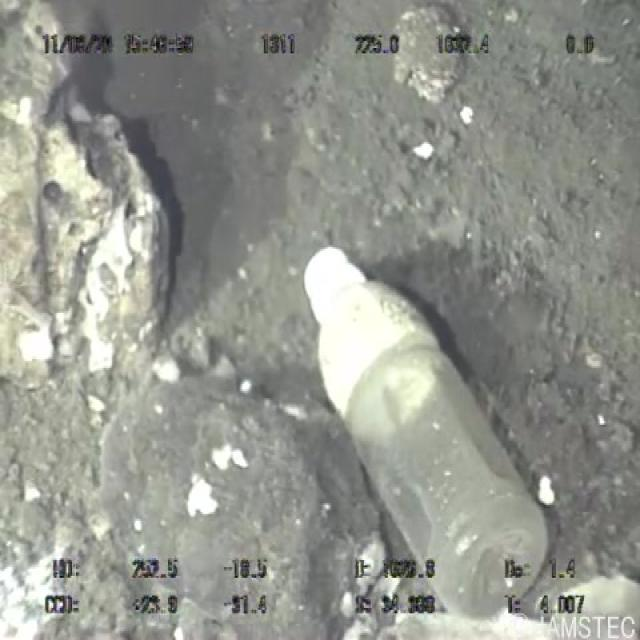plastic: (299, 237, 552, 622)
